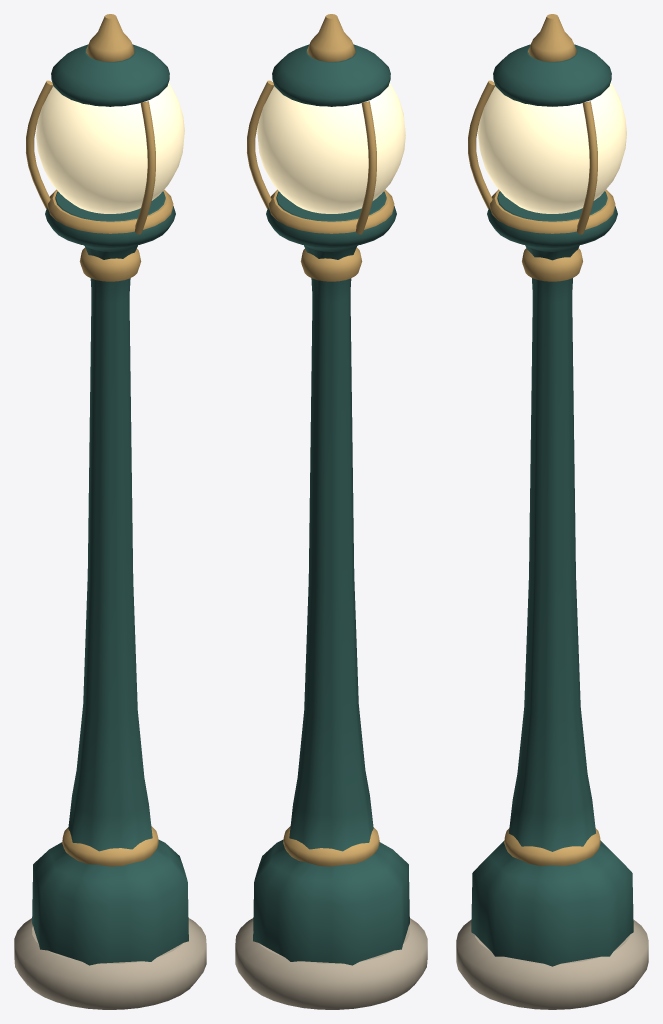
The model's file is lamp.glb.
3 renders of one model, left to right at view 1: azimuth 30°, elevation 25°; view 2: azimuth 150°, elevation 25°; view 3: azimuth 270°, elevation 25°, orthographic.
Parts seen in each view (by area): view 1: lamp; view 2: lamp; view 3: lamp.
Part boxes in pixels (x1,y1,x2,y2): lamp: [14, 14, 206, 1009]; lamp: [235, 14, 427, 1009]; lamp: [456, 14, 648, 1009].
Bounding box in the file's own units: 0.47 × 2.58 × 0.47.
